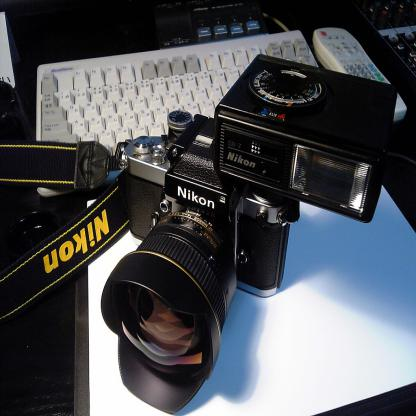Camera: (80, 23, 395, 407)
